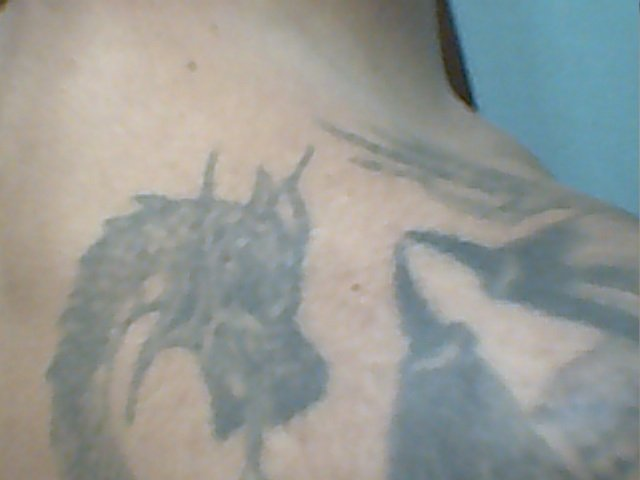tatu6_drakon: (42, 89, 620, 475)
